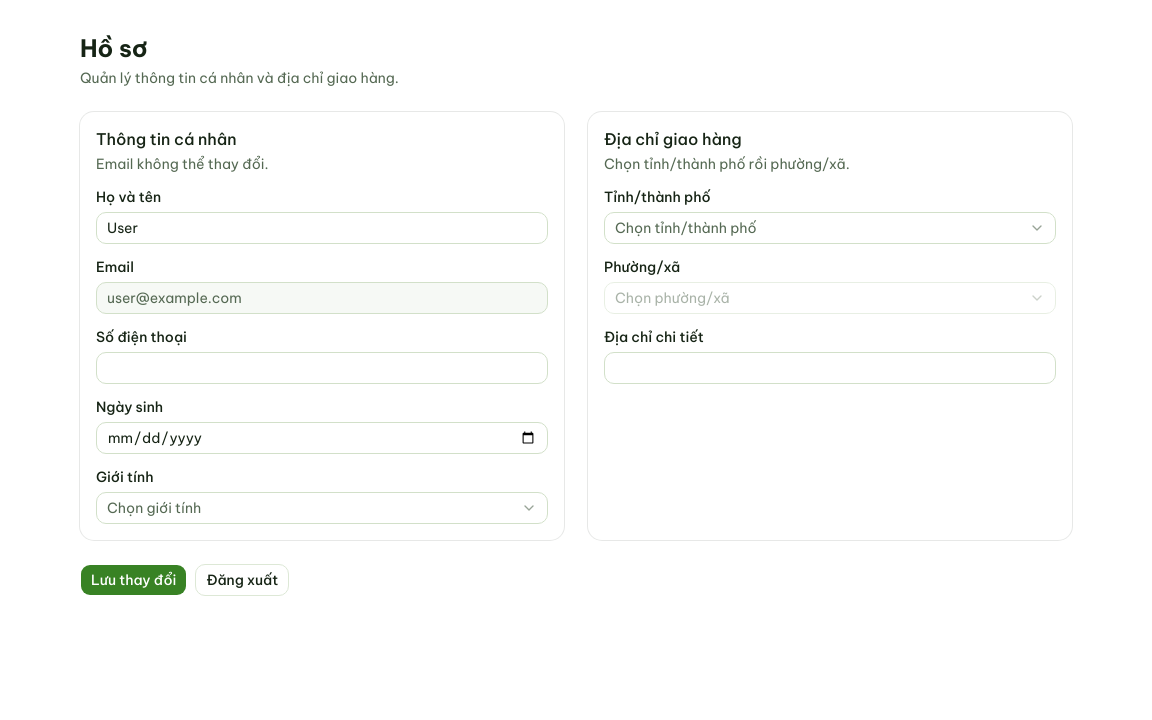
Test: resets the ward selection when the province changes
The width and height of the screenshot is (1152, 720).
Click the button labelled "Chọn tỉnh/thành phố".
click(686, 228)  # box [604,212,1056,244]
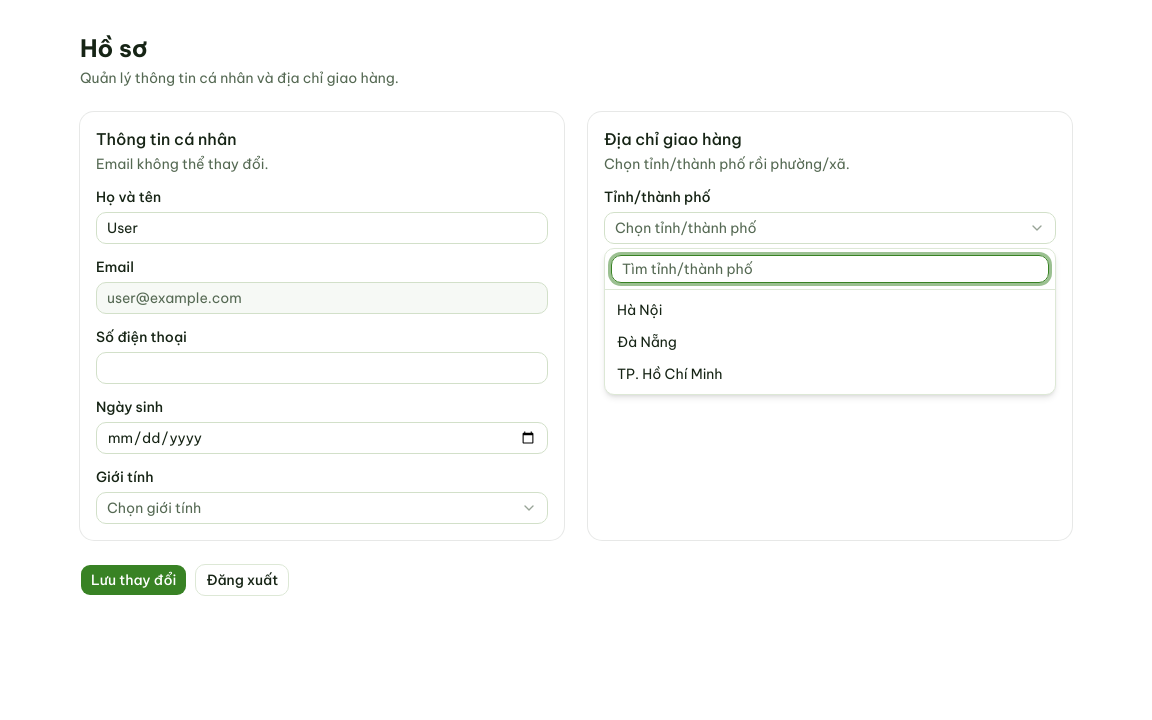
Click the option "TP. Hồ Chí Minh".
click(670, 374)  # box [609,358,1051,390]
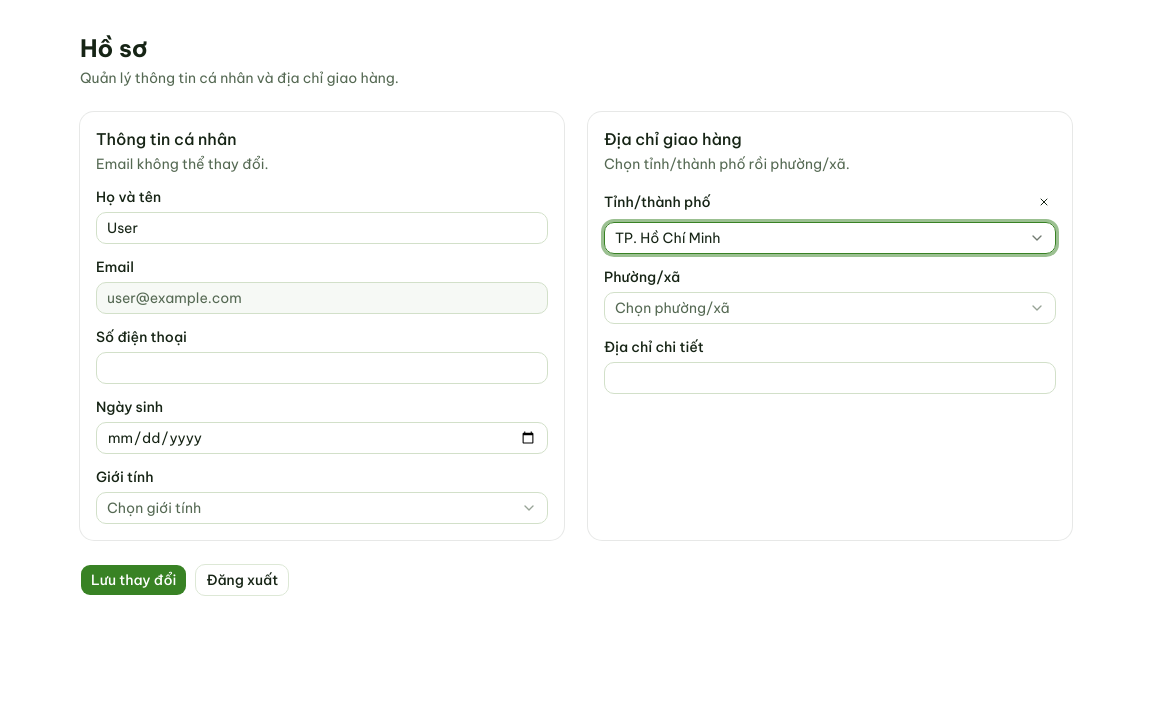
Click the button labelled "Chọn phường/xã".
click(672, 308)  # box [604,292,1056,324]
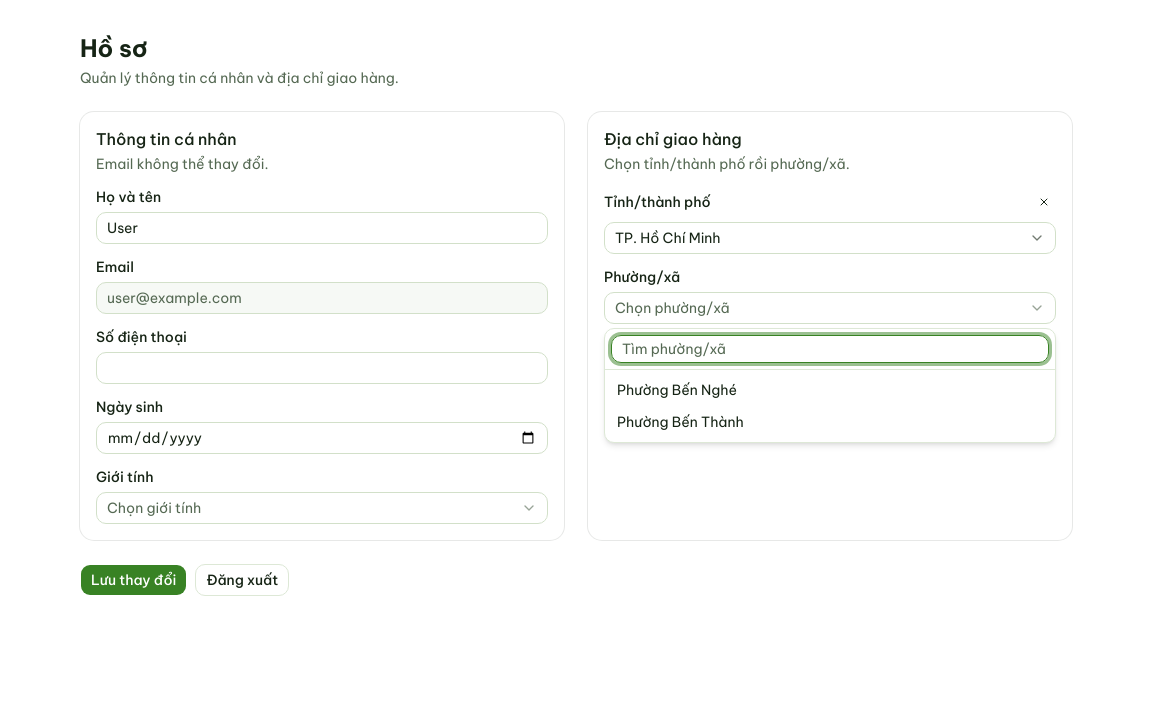
Click the option "Phường Bến Nghé".
click(677, 390)  # box [609,374,1051,406]
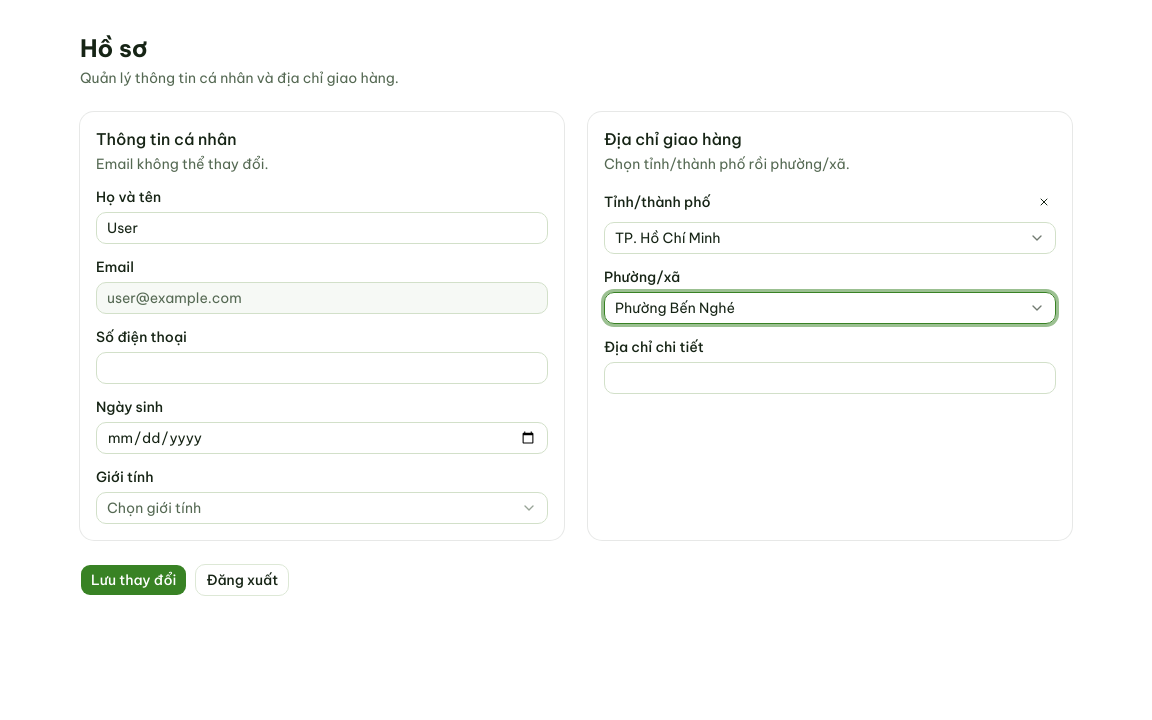
Expected: the button named "Phường/xã" reads "Phường Bến Nghé", [604,292,1056,324]
Click the button named "Tỉnh/thành phố".
click(668, 238)  # box [604,222,1056,254]
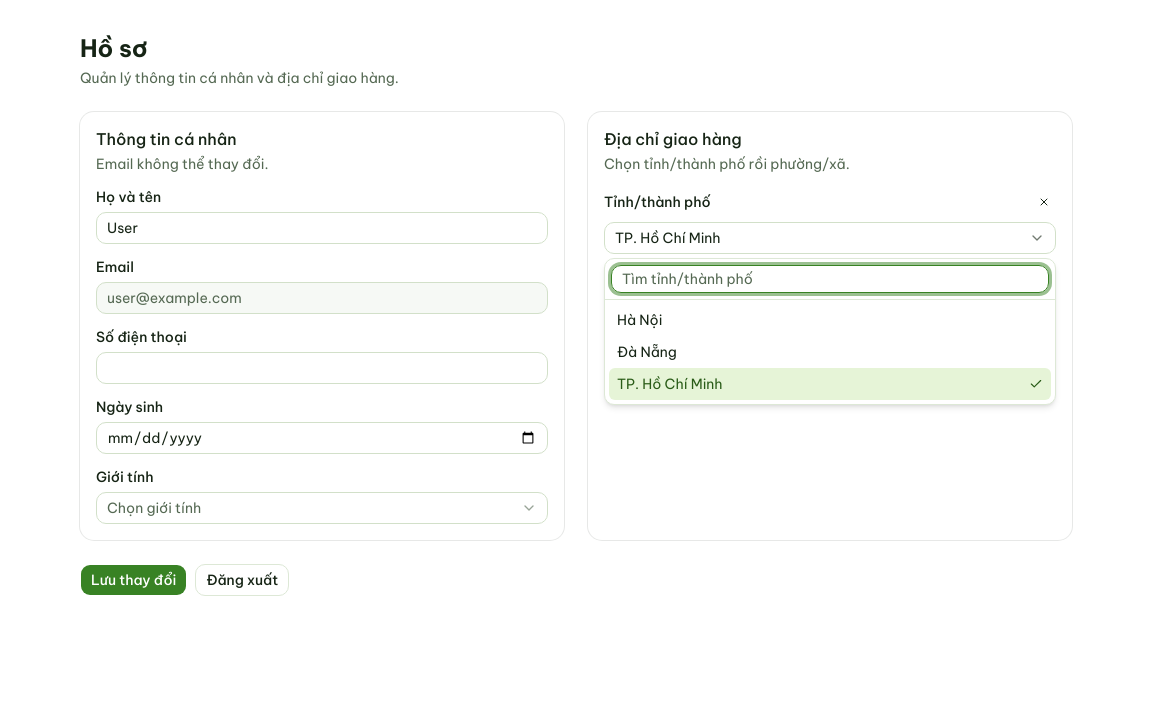
Click the option "Hà Nội".
click(640, 320)  # box [609,304,1051,336]
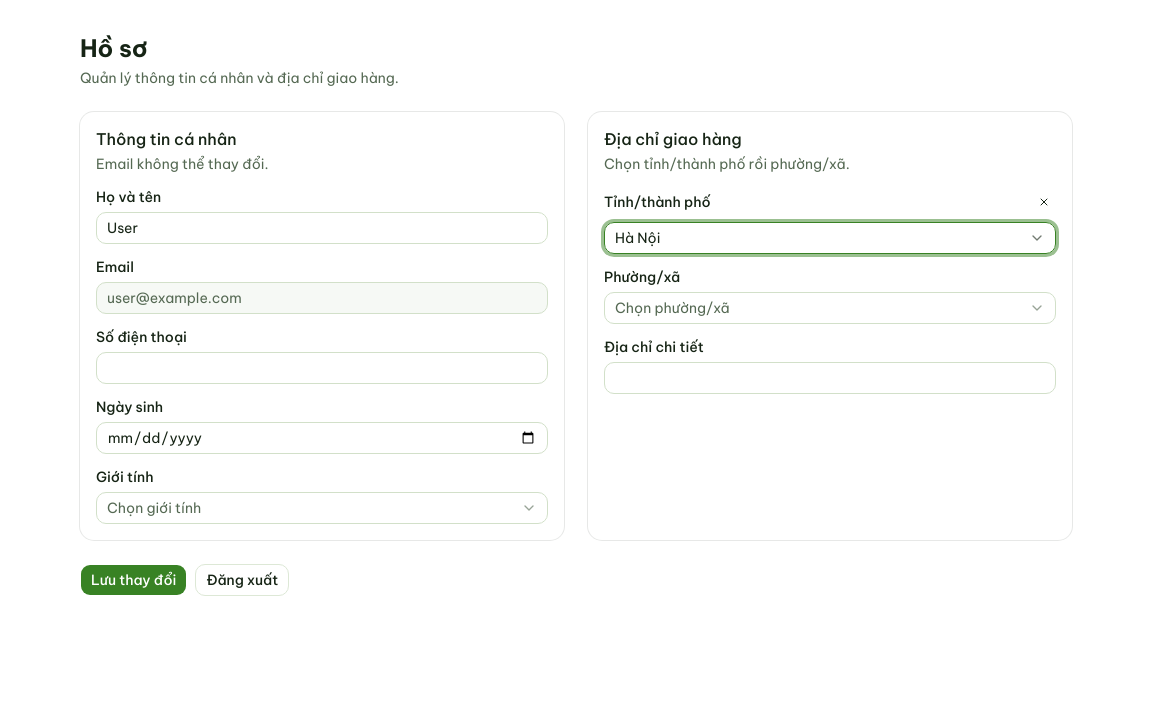
Expected: the button labelled "Chọn phường/xã" is shown, [604,292,1056,324]
